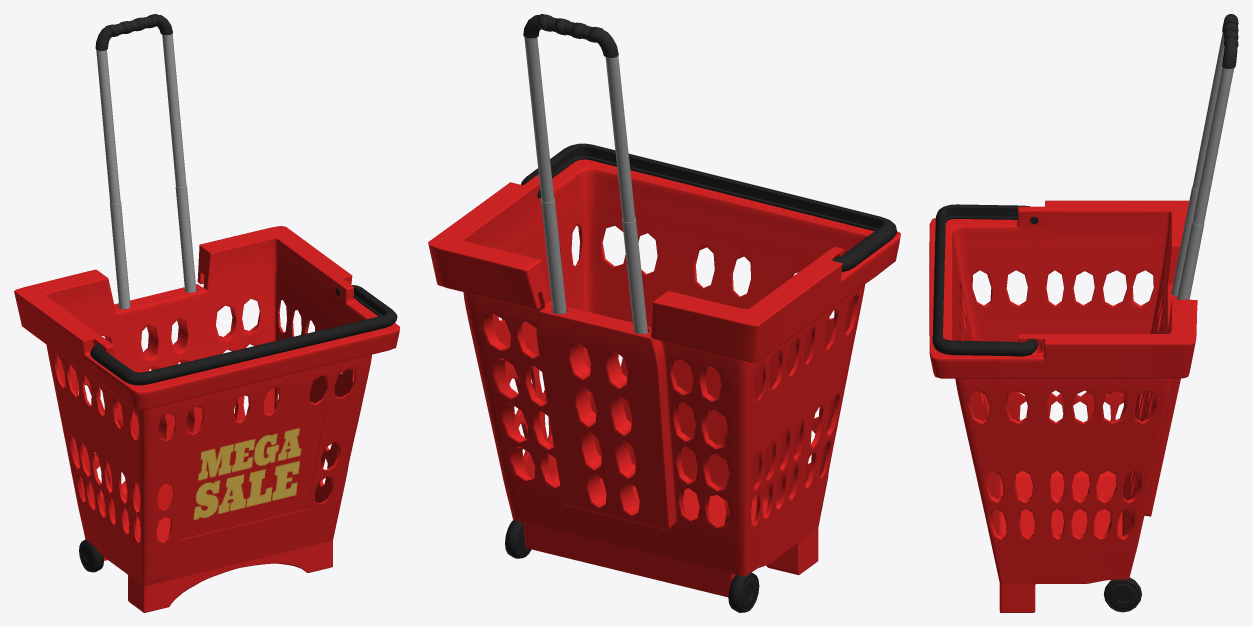
The model's file is Shopping_Basket.fbx.
3 views of the same model, side by side, from view 1: azimuth 30°, elevation 25°; view 2: azimuth 150°, elevation 25°; view 3: azimuth 270°, elevation 25° (orthographic). The views are drawn at different scales.
Parts seen in each view (by area): view 1: Body, Label, HandleB, Rod2, Rod1, HandleA, Wheels; view 2: Body, HandleB, Rod2, Rod1, Wheels, HandleA; view 3: Body, HandleB, Rod2, Rod1, Wheels, HandleA.
Part boxes in pixels (left/top/right/bottom): Body: left=14, top=226, right=399, bottom=612; Label: left=178, top=408, right=325, bottom=539; HandleB: left=90, top=285, right=397, bottom=385; Rod2: left=96, top=34, right=186, bottom=203; Rod1: left=109, top=185, right=196, bottom=309; HandleA: left=95, top=14, right=172, bottom=50; Wheels: left=79, top=539, right=103, bottom=572; Body: left=428, top=159, right=900, bottom=597; HandleB: left=521, top=143, right=897, bottom=272; Rod2: left=524, top=37, right=635, bottom=222; Rod1: left=541, top=197, right=647, bottom=333; Wheels: left=505, top=520, right=759, bottom=612; HandleA: left=523, top=14, right=618, bottom=57; Body: left=929, top=200, right=1197, bottom=612; HandleB: left=932, top=204, right=1037, bottom=356; Rod2: left=1192, top=33, right=1234, bottom=224; Rod1: left=1171, top=186, right=1204, bottom=299; Wheels: left=1103, top=577, right=1141, bottom=612; HandleA: left=1222, top=14, right=1238, bottom=68.
Bounding box in the file's own units: 49.92 × 86.55 × 45.2.
